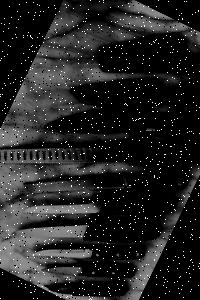knife: (0, 139, 200, 170), (90, 29, 200, 77), (12, 168, 193, 197), (12, 193, 182, 218), (57, 76, 200, 104), (2, 221, 170, 243), (28, 241, 150, 265), (43, 277, 127, 297), (44, 262, 135, 280)
